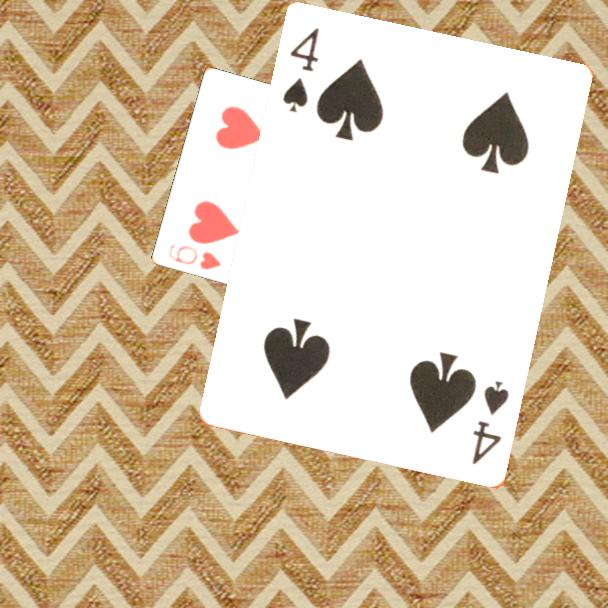h06: (165, 241, 224, 273)
s04: (469, 377, 513, 468), (280, 25, 323, 116)
